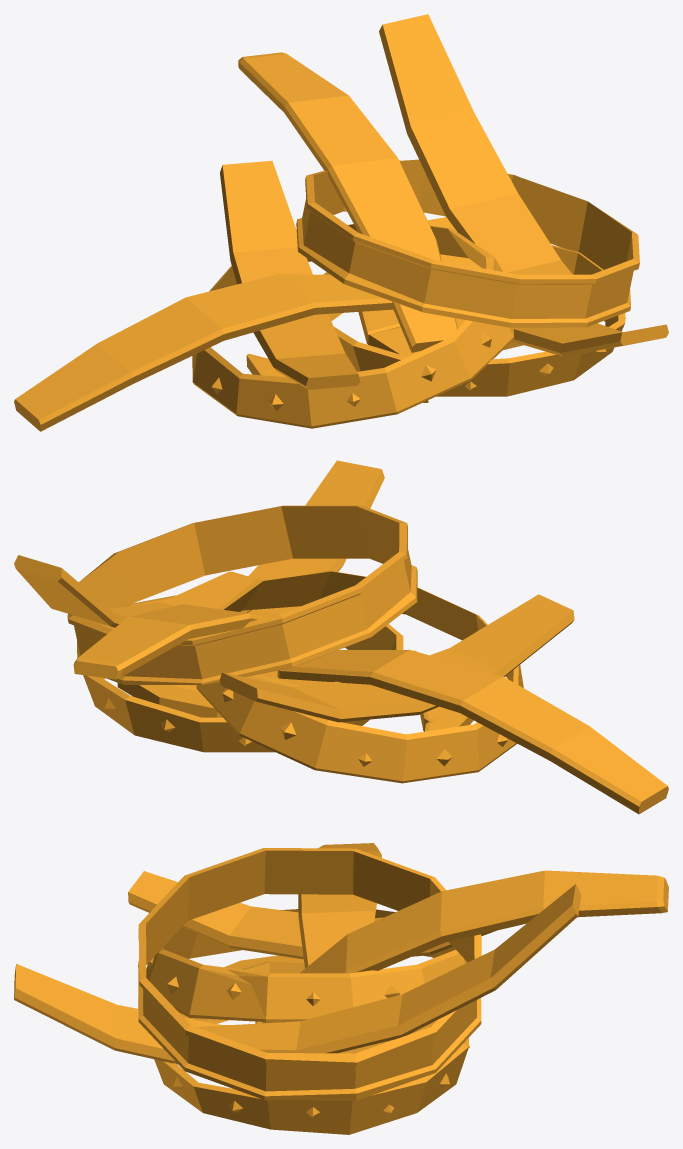
The model's file is SM_Barrel_Wood_A_Broken_B_Fantasy.fbx.
3 renders of one model, top to bottom at view 1: azimuth 30°, elevation 25°; view 2: azimuth 150°, elevation 25°; view 3: azimuth 270°, elevation 25°, orthographic. The views are drawn at different scales.
Parts seen in each view (by area): view 1: barrel-wood-a-broken-b-fantasy; view 2: barrel-wood-a-broken-b-fantasy; view 3: barrel-wood-a-broken-b-fantasy.
Boxes of the visible parts, <box> form: barrel-wood-a-broken-b-fantasy: <box>14,14,668,431</box>; barrel-wood-a-broken-b-fantasy: <box>14,460,668,814</box>; barrel-wood-a-broken-b-fantasy: <box>14,843,668,1134</box>.
Bounding box in the file's own units: 1.93 × 0.6859 × 1.9.
